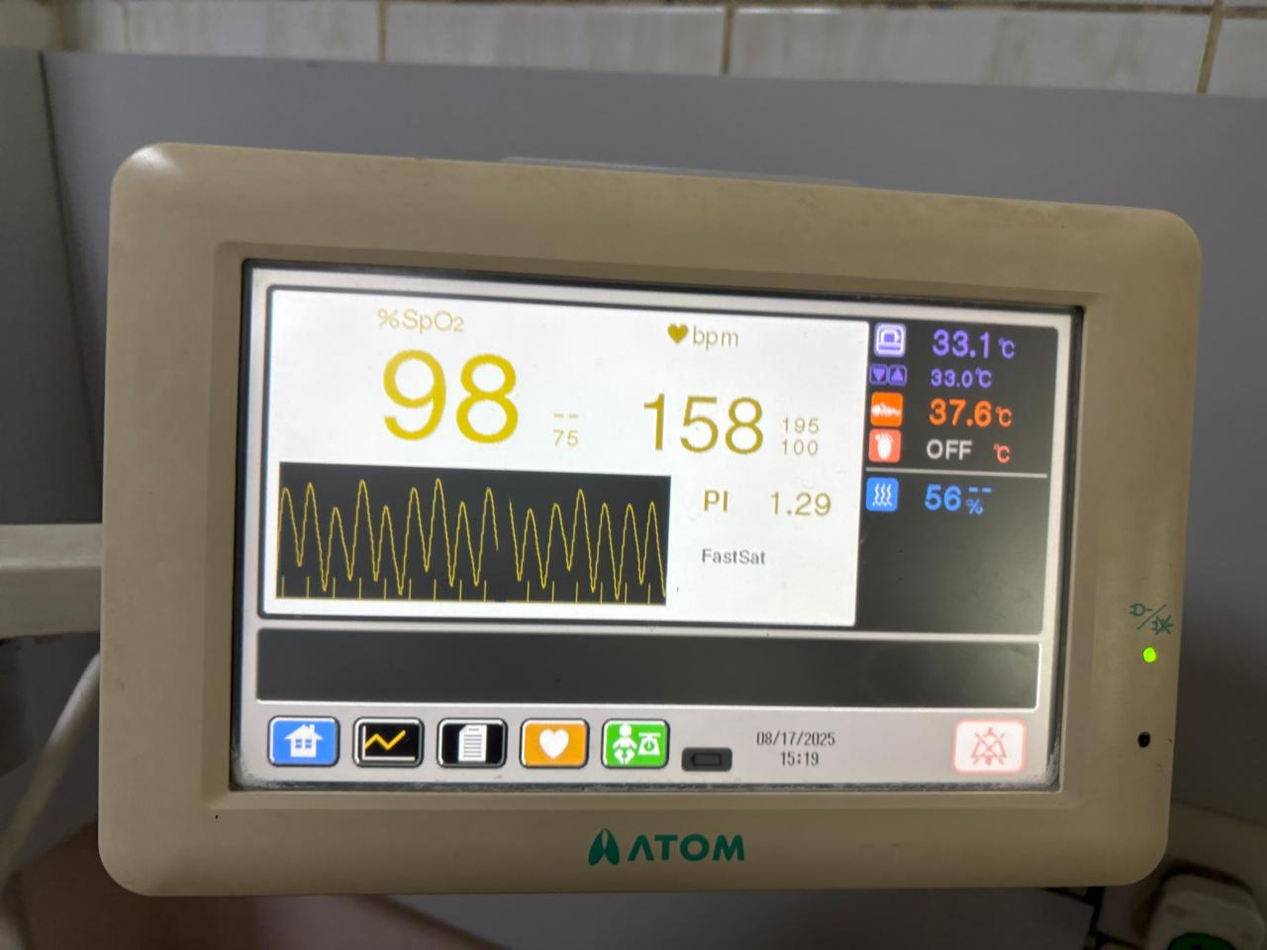air_temp_value: (917, 319, 998, 366)
heart_rate_value: (622, 378, 773, 468)
humidity_value: (913, 472, 965, 524)
skin_temp_value: (916, 387, 994, 436)
spo2_value: (363, 337, 531, 453)
